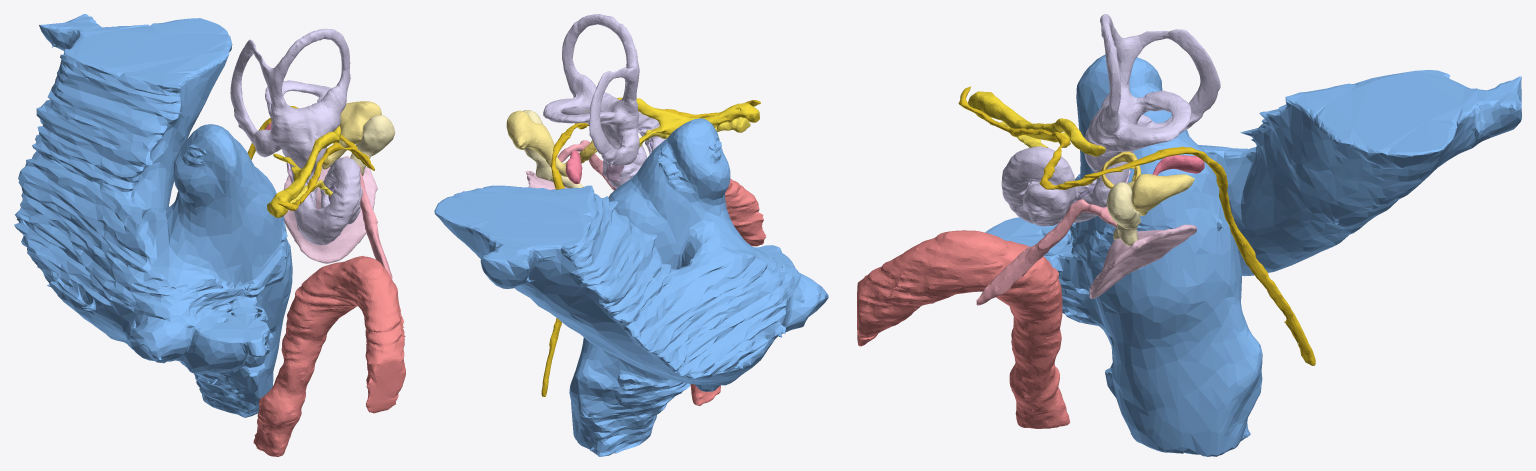
Rendered from organ-ear.glb.
3 views of the same model, side by side, from view 1: azimuth 30°, elevation 25°; view 2: azimuth 150°, elevation 25°; view 3: azimuth 270°, elevation 25° (orthographic). The views are drawn at different scales.
Visible parts, largest first — view 1: internal-jugular-vein, internal-carotid-artery, bony-labyrinth, tympanic-membrane, vestibular-nerve, incus, malleus, facial-nerve, tensor-tympani-muscle; view 2: internal-jugular-vein, bony-labyrinth, internal-carotid-artery, vestibular-nerve, incus, facial-nerve, malleus, tensor-tympani-muscle, cochlear-nerve, stapedius-muscle; view 3: internal-jugular-vein, internal-carotid-artery, bony-labyrinth, facial-nerve, tympanic-membrane, tensor-tympani-muscle, vestibular-nerve, incus, malleus, stapedius-muscle.
Part boxes in pixels (x1,y1,x2,y2): internal-jugular-vein: (14, 14, 292, 417); internal-carotid-artery: (253, 256, 405, 456); bony-labyrinth: (230, 28, 362, 245); tympanic-membrane: (283, 156, 377, 263); vestibular-nerve: (270, 126, 340, 217); incus: (322, 101, 381, 169); malleus: (350, 114, 395, 175); facial-nerve: (247, 106, 374, 210); tensor-tympani-muscle: (358, 165, 392, 280); internal-jugular-vein: (434, 118, 828, 456); bony-labyrinth: (543, 14, 665, 188); internal-carotid-artery: (690, 178, 765, 405); vestibular-nerve: (617, 97, 759, 143); incus: (506, 110, 567, 176); facial-nerve: (541, 100, 760, 396); malleus: (523, 110, 583, 188); tensor-tympani-muscle: (558, 140, 615, 190); cochlear-nerve: (639, 117, 750, 148); stapedius-muscle: (565, 150, 582, 184); internal-jugular-vein: (985, 55, 1521, 456); internal-carotid-artery: (857, 230, 1069, 428); bony-labyrinth: (1001, 14, 1220, 226); facial-nerve: (958, 86, 1315, 365); tympanic-membrane: (1089, 224, 1196, 298); tensor-tympani-muscle: (976, 199, 1117, 305); vestibular-nerve: (968, 91, 1105, 156); incus: (1127, 174, 1194, 215); malleus: (1106, 182, 1140, 246); stapedius-muscle: (1152, 155, 1204, 175).
Size of the model in its own units: 94.87 by 119 by 159.
